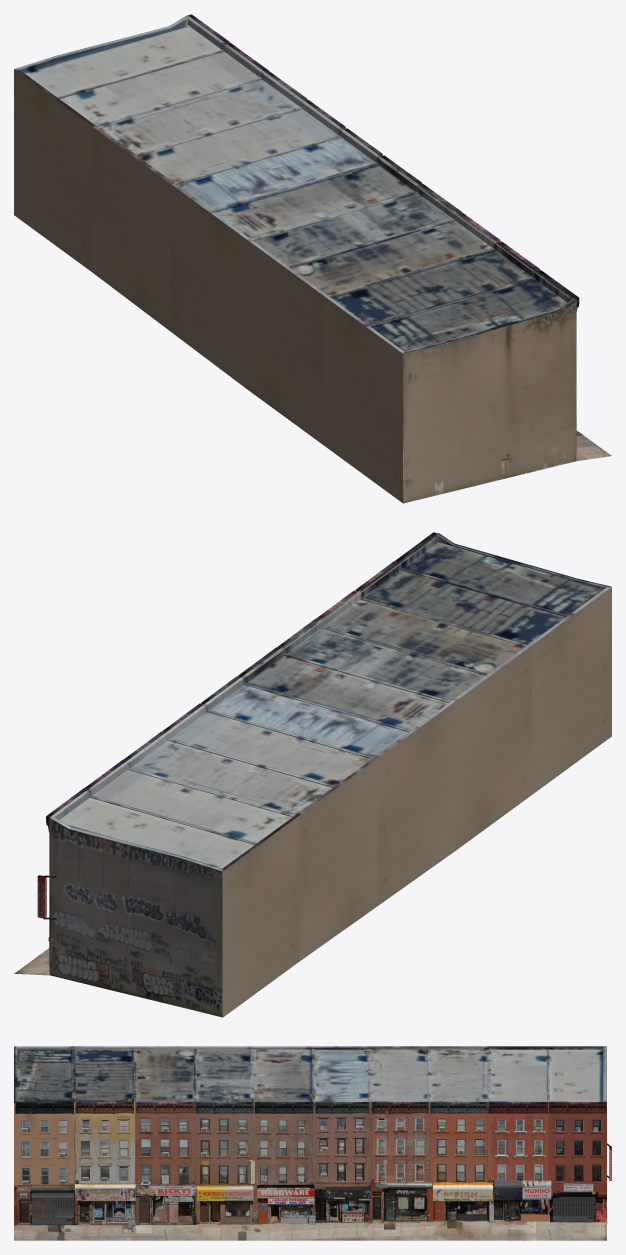
File: brooklyn_street_row_buildings_low_poly.glb
3 views of the same model, one above another, from view 1: azimuth 30°, elevation 25°; view 2: azimuth 150°, elevation 25°; view 3: azimuth 270°, elevation 25° (orthographic). The views are drawn at different scales.
Visible parts, largest first — view 1: facade14Low.Ready.101_143, facade14Low.Ready.247_157, facade14Low.Ready.099_154, facade14Low.Ready.102_144; view 2: facade14Low.Ready.101_143, facade14Low.Ready.247_157, facade14Low.Ready.100_155, facade14Low.Ready.102_144; view 3: facade14Low.Ready.101_143, facade14Low.Ready.001_1, facade14Low.Ready.002_2, facade14Low.Ready_0, facade14Low.Ready.239_386, facade14Low.Ready.020_373, facade14Low.Ready.016_369, facade14Low.Ready.003_356, facade14Low.Ready.102_144, facade14Low.Ready.035_164, facade14Low.Ready.038_167, facade14Low.Ready.023_173 (+24 smaller).
Part boxes in pixels (x1,y1,x2,y2): facade14Low.Ready.101_143: (23, 25, 567, 351); facade14Low.Ready.247_157: (14, 69, 403, 503); facade14Low.Ready.099_154: (403, 300, 576, 503); facade14Low.Ready.102_144: (14, 15, 575, 353); facade14Low.Ready.101_143: (59, 542, 603, 868); facade14Low.Ready.247_157: (222, 587, 611, 1017); facade14Low.Ready.100_155: (49, 818, 222, 1017); facade14Low.Ready.102_144: (49, 533, 611, 871); facade14Low.Ready.101_143: (17, 1049, 602, 1101); facade14Low.Ready.001_1: (369, 1102, 606, 1182); facade14Low.Ready.002_2: (14, 1102, 196, 1189); facade14Low.Ready_0: (196, 1102, 369, 1189); facade14Low.Ready.239_386: (14, 1221, 607, 1240); facade14Low.Ready.020_373: (369, 1183, 606, 1222); facade14Low.Ready.016_369: (196, 1189, 369, 1224); facade14Low.Ready.003_356: (14, 1189, 196, 1224); facade14Low.Ready.102_144: (14, 1046, 606, 1101); facade14Low.Ready.035_164: (432, 1182, 493, 1201); facade14Low.Ready.038_167: (494, 1180, 551, 1199); facade14Low.Ready.023_173: (31, 1192, 73, 1217).
Bounding box in the file's own units: 20.33 × 15.35 × 66.09.
1 material, 1 textured.
